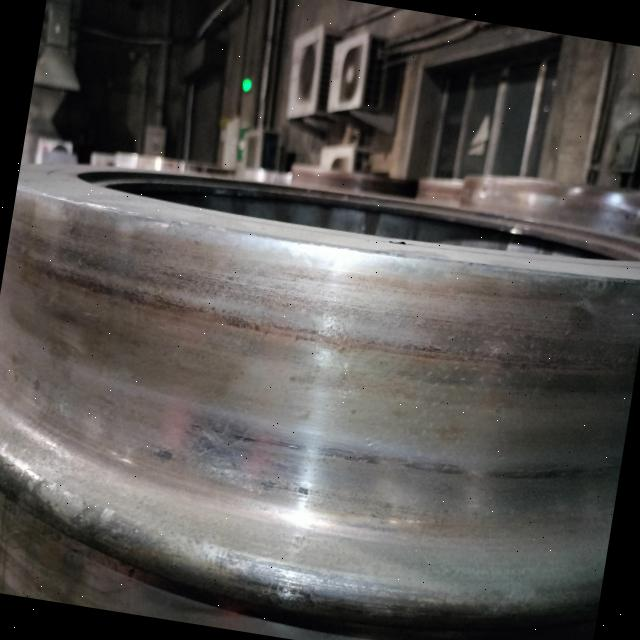flat: (158, 401, 335, 507)
